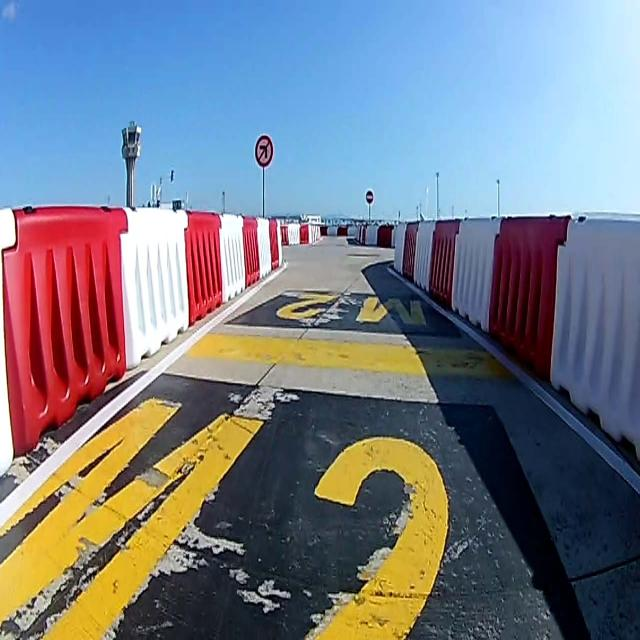soladonulmez: (255, 135, 273, 167)
